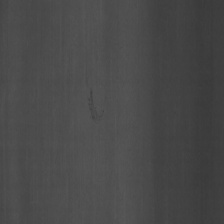water_spot: (84, 80, 108, 131)
